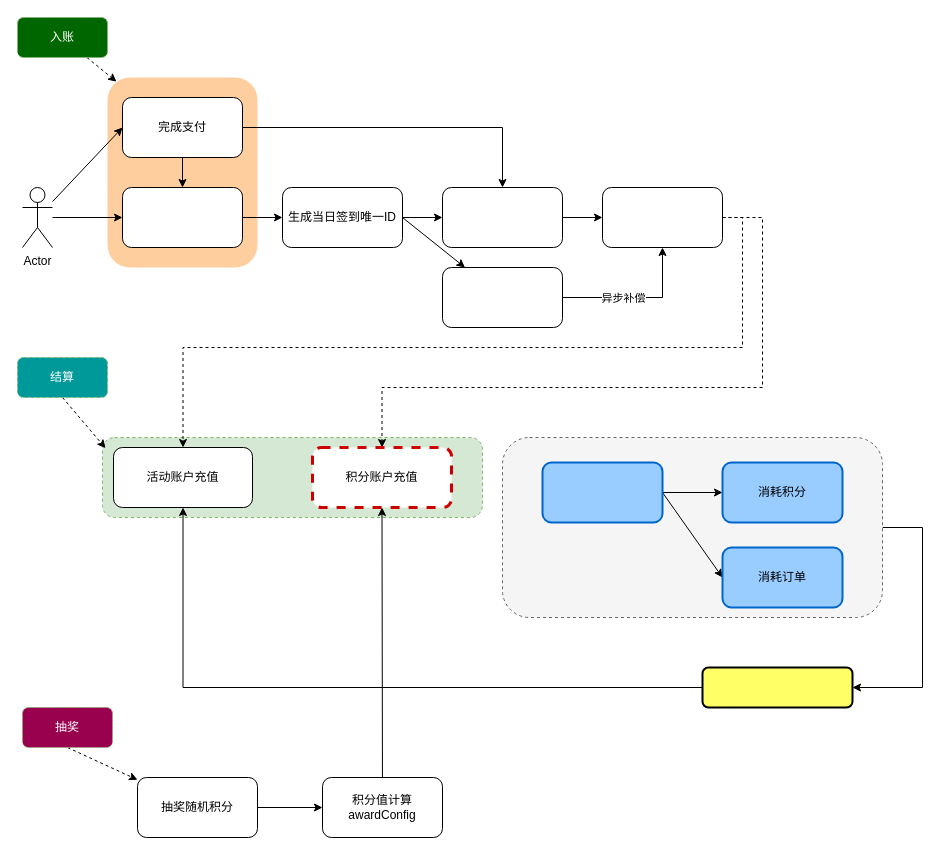
The diagram is 948 pixels wide and 855 high, and some of its shapes have lost their labels. Each missing label, with the centre of its shape:
"task任务表" belongs at (x=502, y=297).
"兑换抽奖资格 活动sku" belongs at (x=602, y=492).
"发送MQ消息" belongs at (x=662, y=217).
"抽奖资格" belongs at (x=777, y=687).
"点击签到" belongs at (x=182, y=217).
"行为返利记录" belongs at (x=502, y=217).
